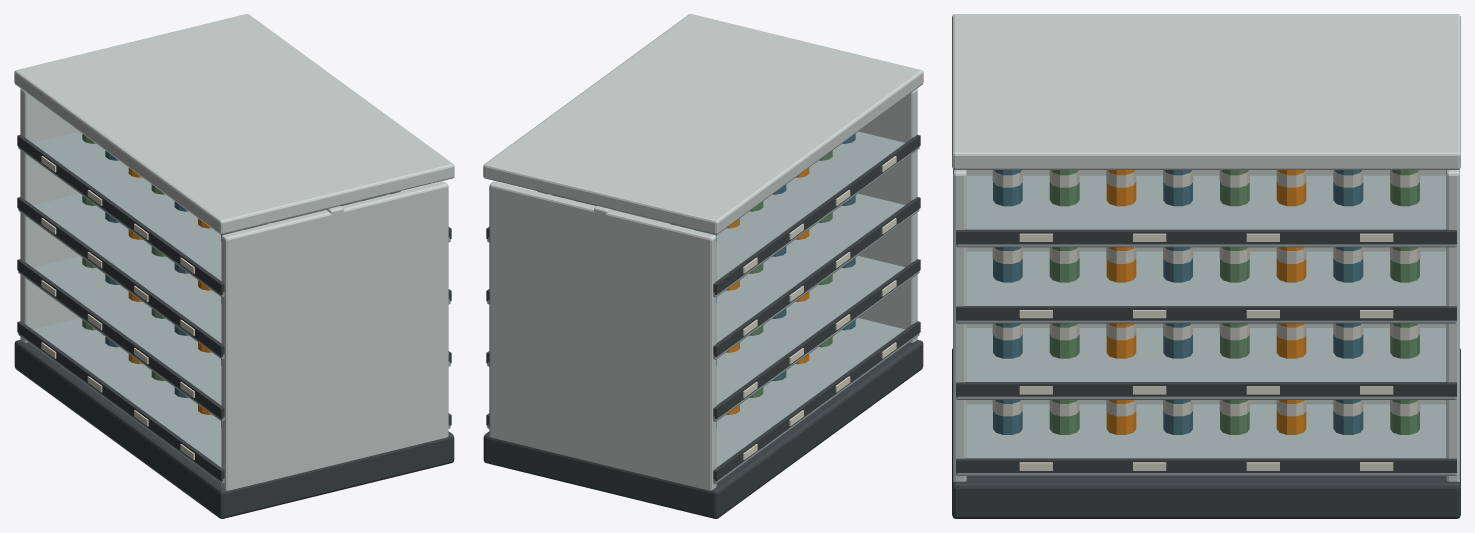
File: beverages.glb
3 renders of one model, left to right at view 1: azimuth 30°, elevation 25°; view 2: azimuth 150°, elevation 25°; view 3: azimuth 270°, elevation 25°, orthographic. The views are drawn at different scales.
Visible parts, largest first — view 1: beverages_fixture_Refrigerator enamel, beverages_fixture_Brushed stainless, beverages_fixture_Powder-coated graphite, beverages_micro_Ivory shelf label, beverages_detail_greenpack, beverages_detail_Pack blue, beverages_detail_Citrus ochre; view 2: beverages_fixture_Refrigerator enamel, beverages_fixture_Brushed stainless, beverages_fixture_Powder-coated graphite, beverages_micro_Ivory shelf label, beverages_detail_Pack blue, beverages_detail_greenpack, beverages_detail_Citrus ochre; view 3: beverages_fixture_Refrigerator enamel, beverages_fixture_Brushed stainless, beverages_fixture_Powder-coated graphite, beverages_micro_paper, beverages_detail_greenpack, beverages_detail_Pack blue, beverages_detail_Citrus ochre, beverages_micro_Ivory shelf label.
Boxes of the visible parts, x1,y1,x2,y2 form: beverages_fixture_Refrigerator enamel: [14, 14, 454, 490]; beverages_fixture_Brushed stainless: [18, 131, 450, 483]; beverages_fixture_Powder-coated graphite: [14, 135, 454, 518]; beverages_micro_Ivory shelf label: [41, 156, 194, 459]; beverages_detail_greenpack: [82, 134, 362, 427]; beverages_detail_Pack blue: [105, 150, 386, 397]; beverages_detail_Citrus ochre: [128, 168, 211, 414]; beverages_fixture_Refrigerator enamel: [483, 14, 923, 490]; beverages_fixture_Brushed stainless: [487, 131, 919, 483]; beverages_fixture_Powder-coated graphite: [483, 135, 923, 518]; beverages_micro_Ivory shelf label: [743, 156, 896, 459]; beverages_detail_Pack blue: [575, 134, 855, 427]; beverages_detail_greenpack: [551, 150, 832, 397]; beverages_detail_Citrus ochre: [726, 168, 809, 414]; beverages_fixture_Refrigerator enamel: [952, 14, 1460, 481]; beverages_fixture_Brushed stainless: [956, 175, 1456, 475]; beverages_fixture_Powder-coated graphite: [952, 229, 1460, 518]; beverages_micro_paper: [992, 170, 1420, 416]; beverages_detail_greenpack: [1049, 170, 1419, 434]; beverages_detail_Pack blue: [993, 170, 1363, 434]; beverages_detail_Citrus ochre: [1106, 170, 1306, 434]; beverages_micro_Ivory shelf label: [1019, 233, 1393, 470].
Size of the model in its own units: 1.7 by 2.07 by 2.6.
